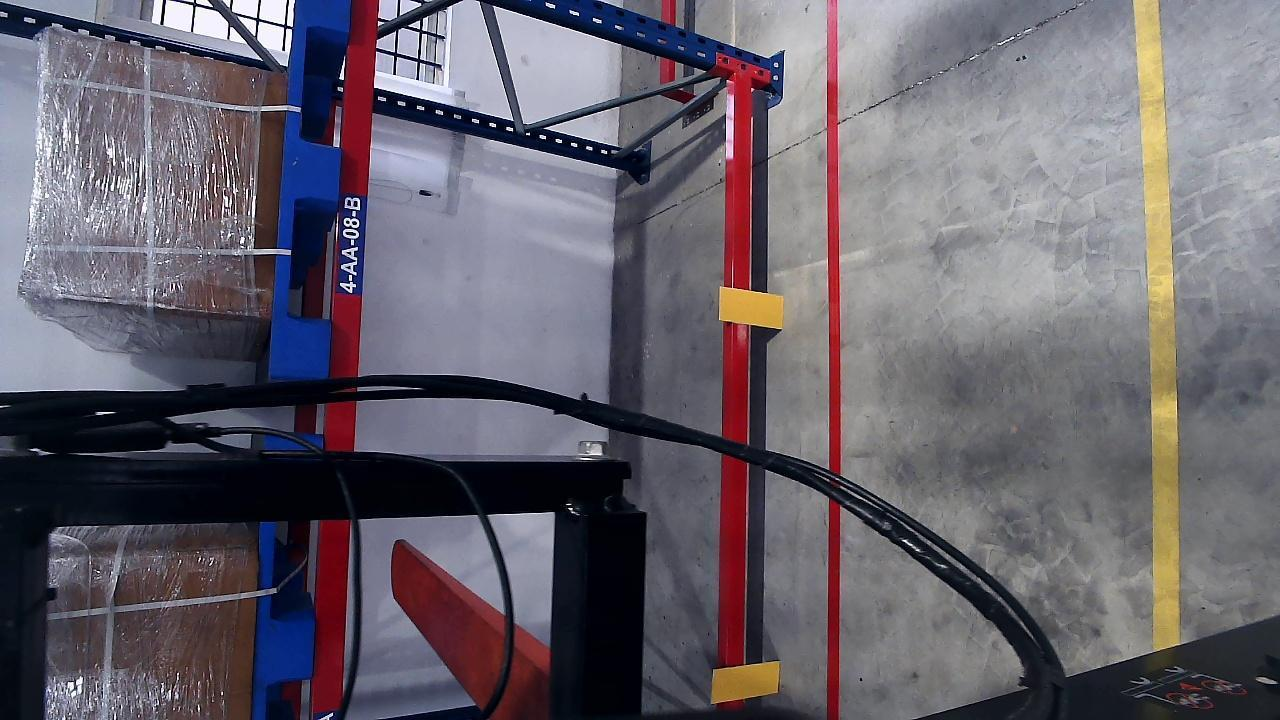red_line: (822, 0, 844, 709)
yellow_line: (1140, 1, 1181, 644)
